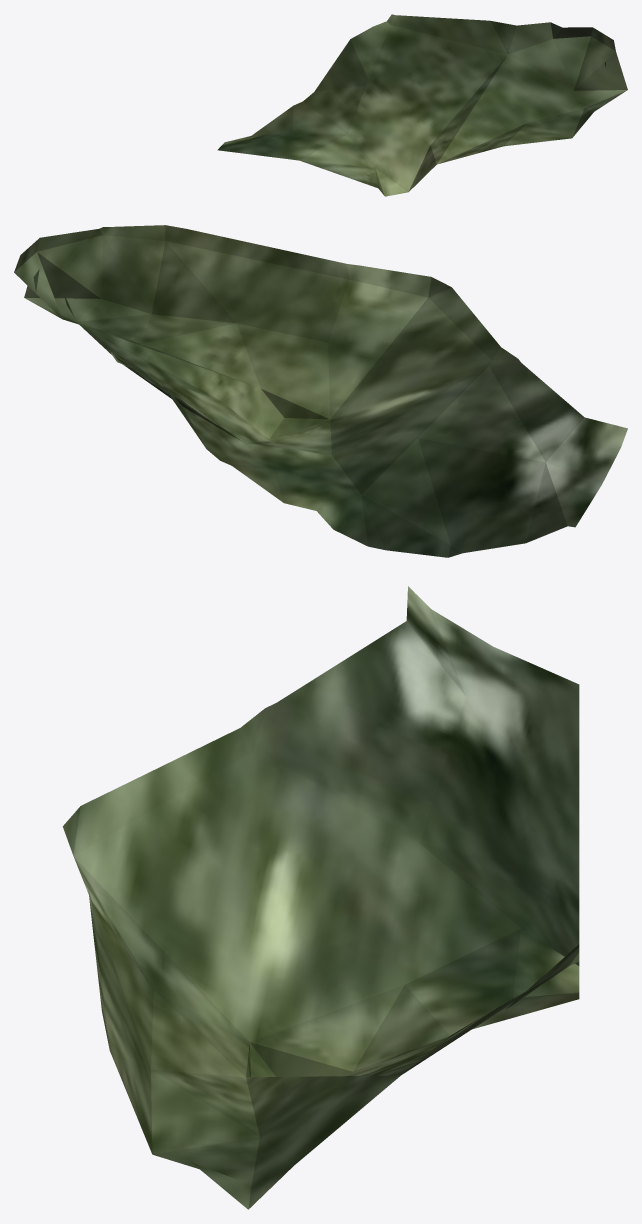
The picture shows the model from 3 angles, top to bottom: view 1: azimuth 30°, elevation 25°; view 2: azimuth 150°, elevation 25°; view 3: azimuth 270°, elevation 25°; orthographic projection. The views are drawn at different scales.
Size of the model in its own units: 2.14 by 0.4323 by 0.9.
1 material, 1 textured.
